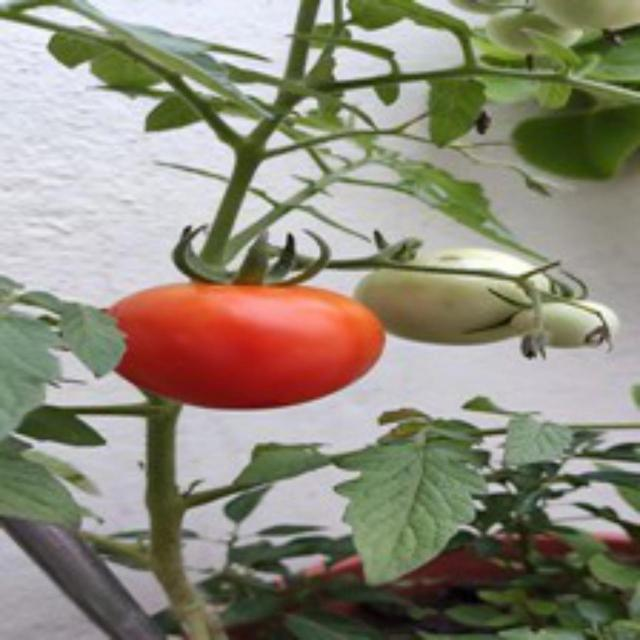tomato: (106, 260, 392, 420)
